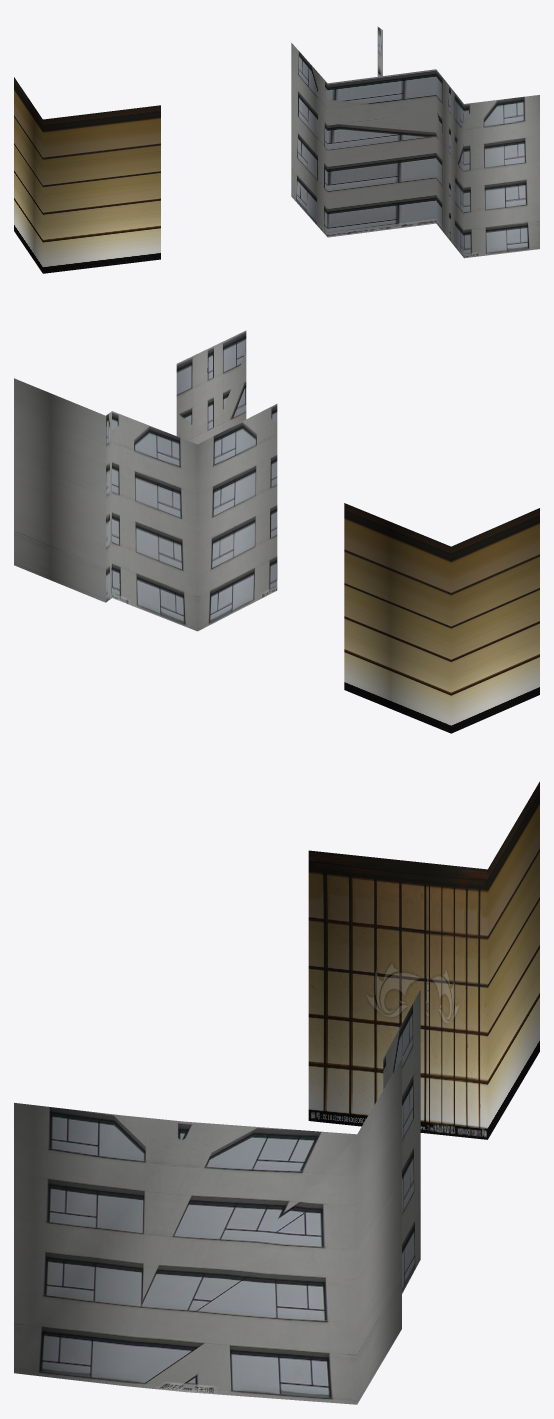
The picture shows the model from 3 angles, top to bottom: view 1: azimuth 30°, elevation 25°; view 2: azimuth 150°, elevation 25°; view 3: azimuth 270°, elevation 25°; orthographic projection. The views are drawn at different scales.
Parts seen in each view (by area): view 1: Polyline10, Polyline8; view 2: Polyline10, Polyline8; view 3: Polyline10, Polyline8.
Part boxes in pixels (x1,y1,x2,y2): Polyline10: (291,26,539,258); Polyline8: (14,77,160,273); Polyline10: (14,330,277,631); Polyline8: (344,503,539,733); Polyline10: (14,989,420,1404); Polyline8: (308,781,539,1139).
Size of the model in its own units: 59 by 20 by 35.25.
Materials: 2 (2 with a texture image).
